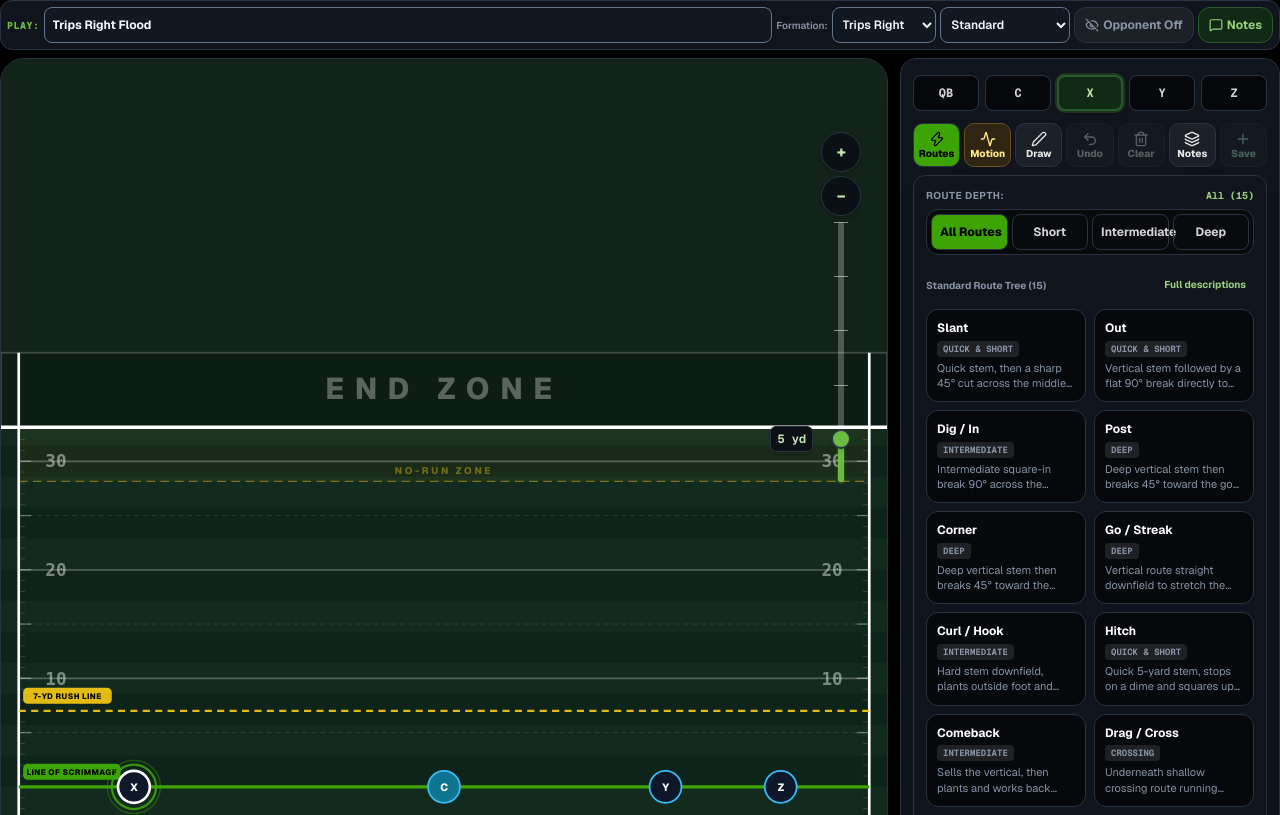
PlayCanvas Route Presets Suite › keeps motions in the Motion menu and only post-snap routes in the route tree
Step 1. Click the button with test id "toggle-motion-btn" → (988, 145), box top-left (964, 123), bottom-right (1011, 167)
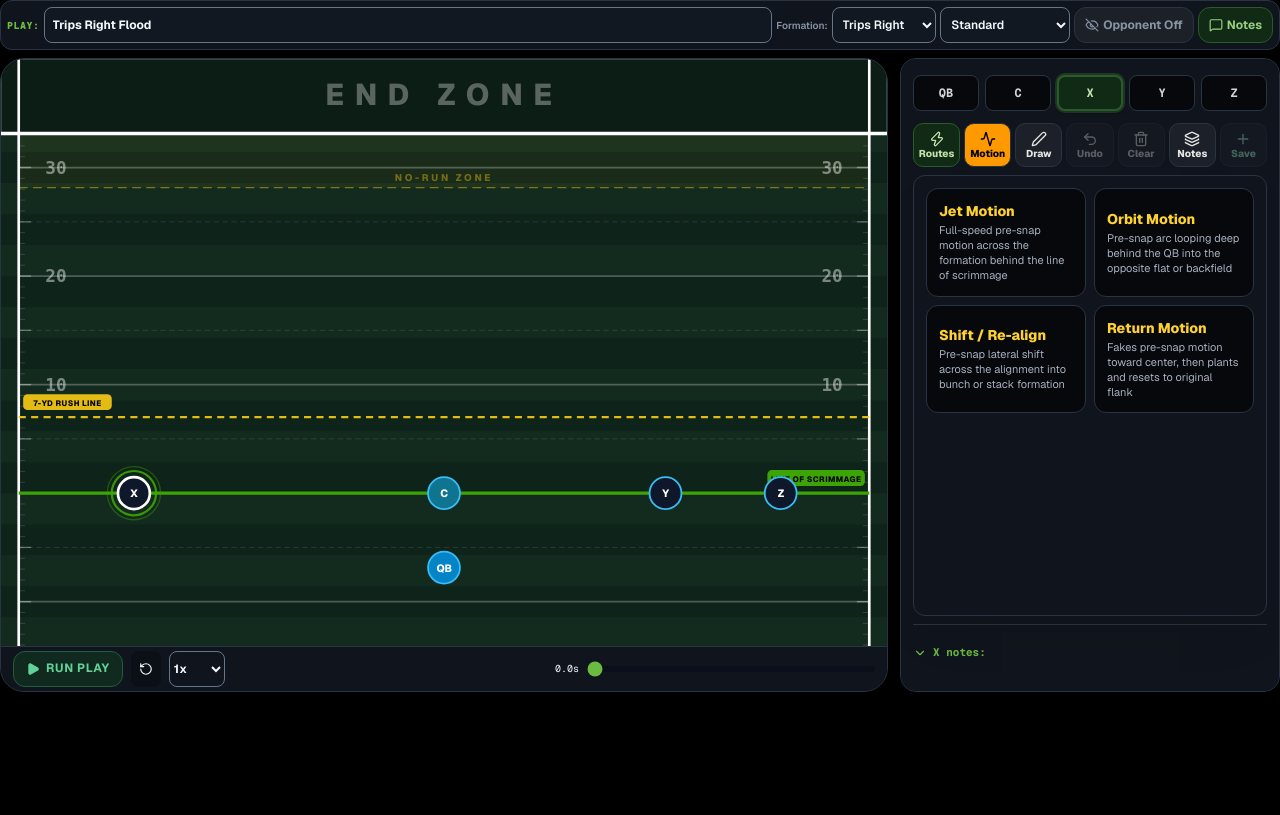
Expected: the button with test id "quick-route-jet-motion" is shown, top-left (926, 188), bottom-right (1086, 296)
Expected: the button with test id "quick-route-orbit-motion" is shown, top-left (1094, 188), bottom-right (1254, 296)
Step 2. Click the button with test id "route-presets-toggle" → (937, 145), box top-left (913, 123), bottom-right (960, 167)
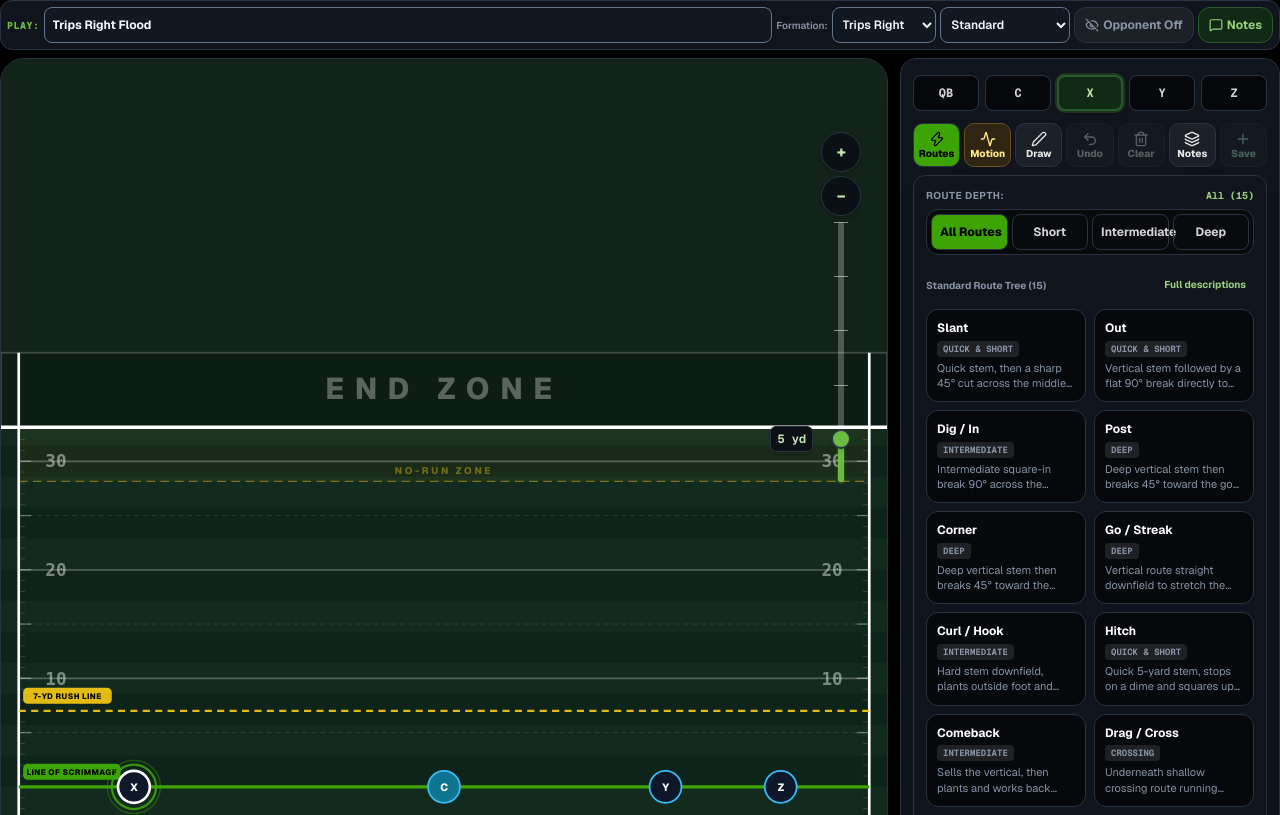
Expected: the button with test id "catalog-route-drag" is shown, top-left (1094, 714), bottom-right (1254, 807)
